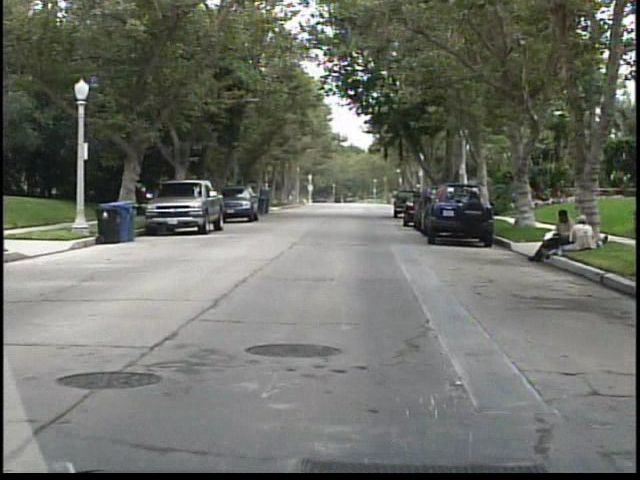person: (527, 207, 576, 263), (564, 209, 596, 249)
